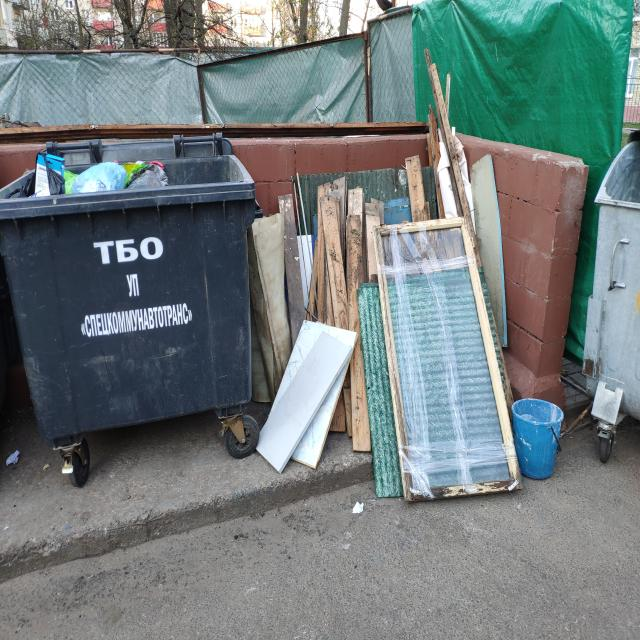entulho: (372, 220, 522, 496), (306, 181, 372, 454), (254, 313, 357, 470), (250, 192, 306, 419), (424, 54, 482, 271), (511, 397, 565, 481), (402, 152, 432, 222)
lixo domiciliar: (25, 146, 175, 196)
